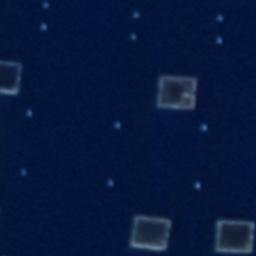square_cover: (126, 209, 176, 252), (152, 68, 199, 110), (212, 216, 256, 256), (1, 53, 31, 99)
